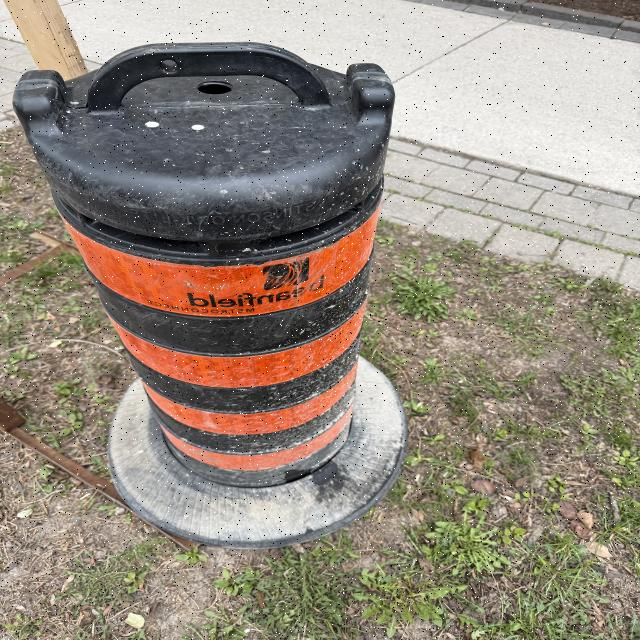Teraffic Barrel: (14, 43, 406, 546)
